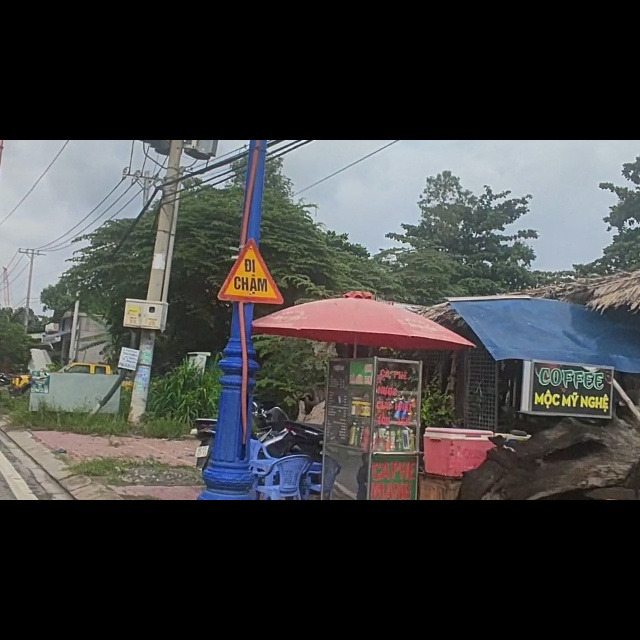bien_nguy_hiem: (214, 172, 288, 295)
